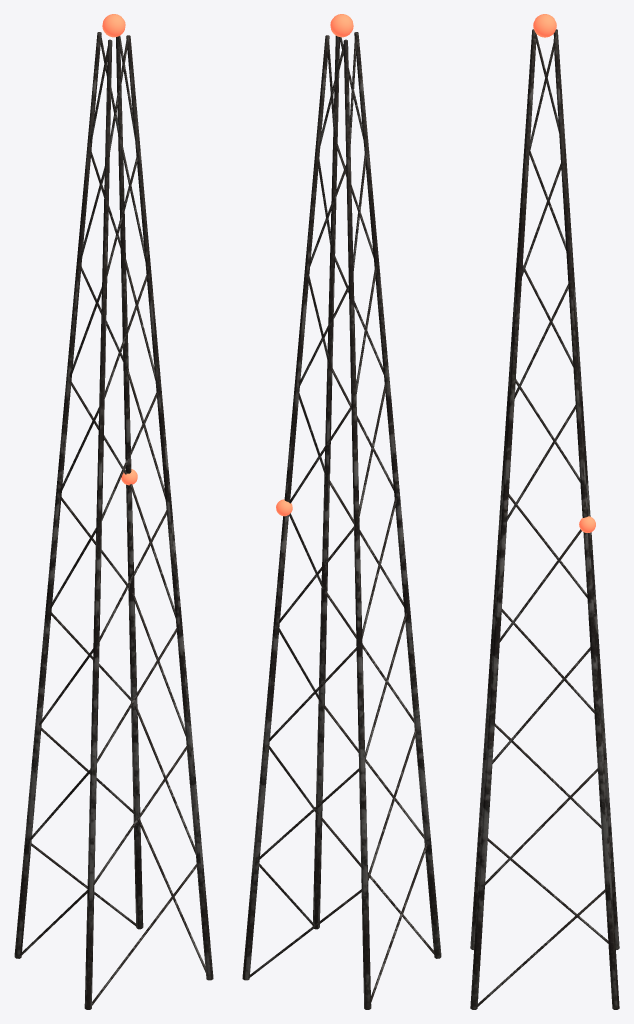
File: prop_radio_tower.glb
3 renders of one model, left to right at view 1: azimuth 30°, elevation 25°; view 2: azimuth 150°, elevation 25°; view 3: azimuth 270°, elevation 25°, orthographic.
Visible parts, largest first — view 1: Leg0, Leg1, Leg3, Leg2, Brace0_0, Brace0_1, Brace1_0, Brace1_1, Brace2_0; view 2: Leg3, Leg2, Leg0, Leg1, Brace0_3, Brace1_3, Brace0_0; view 3: Leg1, Leg2, Leg0, Leg3, Brace0_1, Brace1_1, Brace0_3, BeaconTop, Brace2_1, Brace1_3, Brace3_1, Brace4_1 (+3 smaller).
Part boxes in pixels (bbox=[...]): Leg0: bbox=[84, 39, 112, 1009]; Leg1: bbox=[126, 35, 213, 980]; Leg3: bbox=[14, 32, 101, 958]; Leg2: bbox=[116, 36, 143, 929]; Brace0_0: bbox=[92, 863, 197, 1005]; Brace0_1: bbox=[138, 819, 205, 972]; Brace1_0: bbox=[94, 745, 187, 884]; Brace1_1: bbox=[134, 705, 195, 854]; Brace2_0: bbox=[97, 627, 177, 763]; Leg3: bbox=[343, 39, 371, 1009]; Leg2: bbox=[242, 35, 329, 980]; Leg0: bbox=[354, 32, 441, 958]; Leg1: bbox=[312, 36, 339, 929]; Brace0_3: bbox=[371, 844, 427, 1002]; Brace1_3: bbox=[368, 729, 417, 880]; Brace0_0: bbox=[321, 817, 434, 954]; Leg1: bbox=[470, 38, 536, 1009]; Leg2: bbox=[553, 38, 619, 1009]; Leg0: bbox=[470, 29, 535, 949]; Leg3: bbox=[553, 29, 619, 949]; Brace0_1: bbox=[477, 889, 605, 1006]; Brace1_1: bbox=[484, 768, 598, 885]; Brace0_3: bbox=[487, 838, 608, 943]; BeaconTop: bbox=[533, 14, 556, 37]; Brace2_1: bbox=[492, 647, 590, 764]; Brace1_3: bbox=[494, 723, 601, 828]; Brace3_1: bbox=[499, 529, 581, 642]; Brace4_1: bbox=[506, 405, 576, 520].
Bounding box in the file's own units: 3.14 × 22.47 × 3.15.
2 materials, 1 textured.
